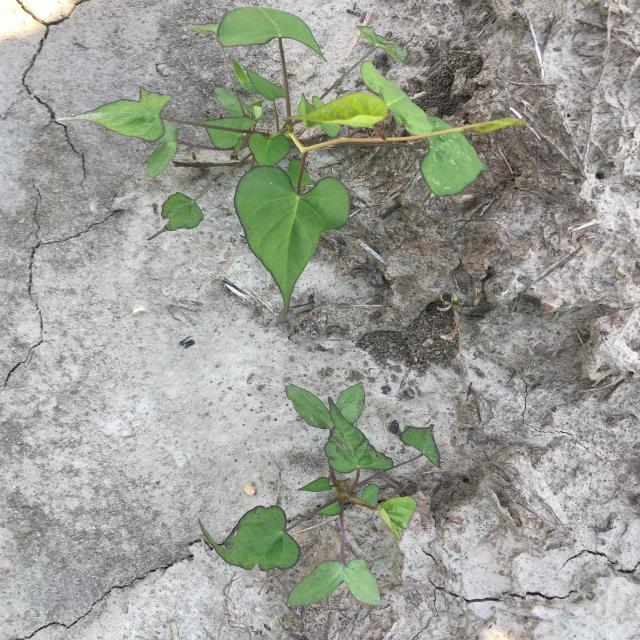MorningGlory: (55, 7, 528, 316), (198, 382, 441, 608)
